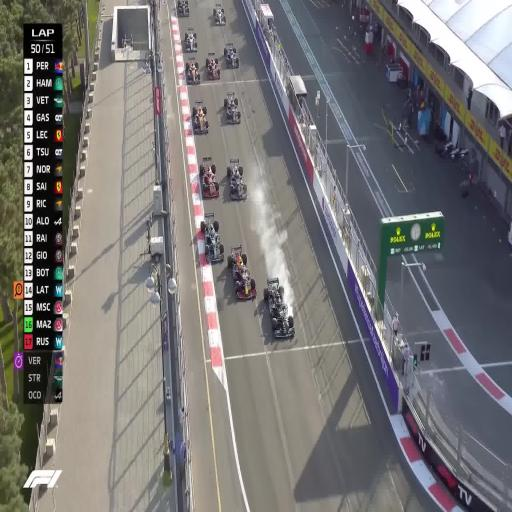f1_car: (263, 278, 294, 338), (227, 245, 256, 299), (200, 212, 224, 262), (199, 156, 219, 197), (227, 159, 247, 199), (192, 100, 209, 134), (224, 92, 241, 124), (186, 57, 201, 84), (224, 42, 239, 68), (206, 53, 220, 79), (184, 27, 198, 52), (213, 4, 226, 25), (177, 0, 189, 17)
